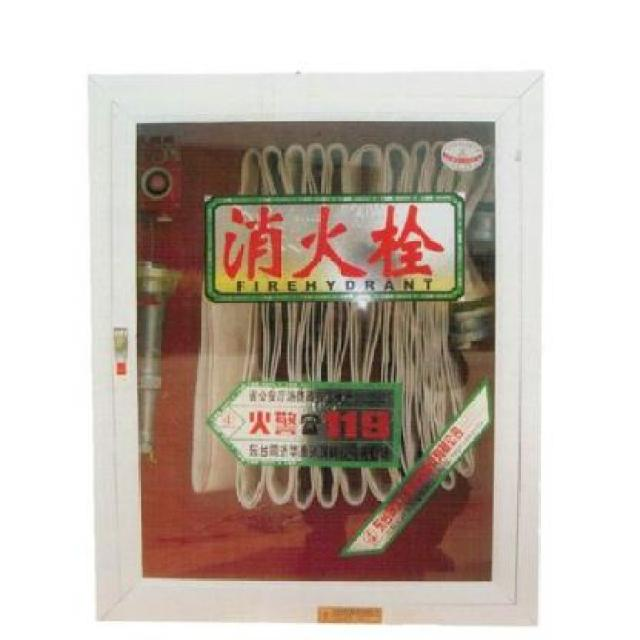firehydrant: (83, 64, 547, 628)
